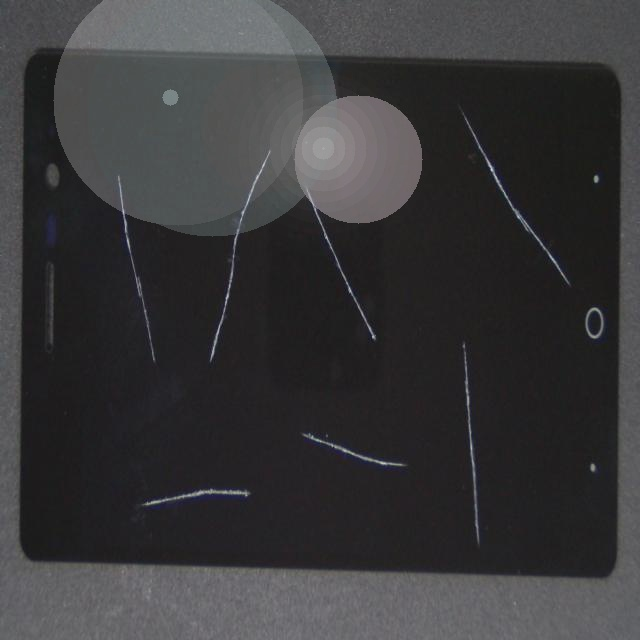scratch: (263, 247, 562, 640), (258, 366, 640, 640), (173, 257, 378, 640), (233, 273, 542, 435), (92, 304, 366, 454), (347, 239, 640, 334)
